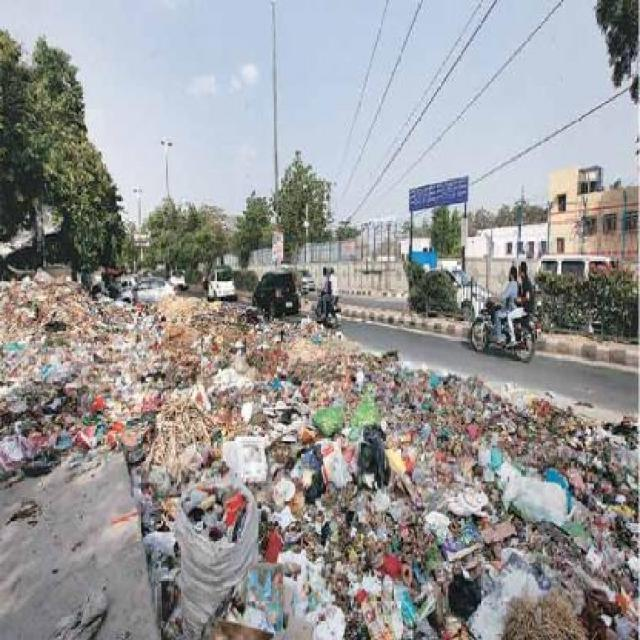garbage: (163, 379, 624, 638), (99, 314, 303, 456), (3, 271, 124, 458)
